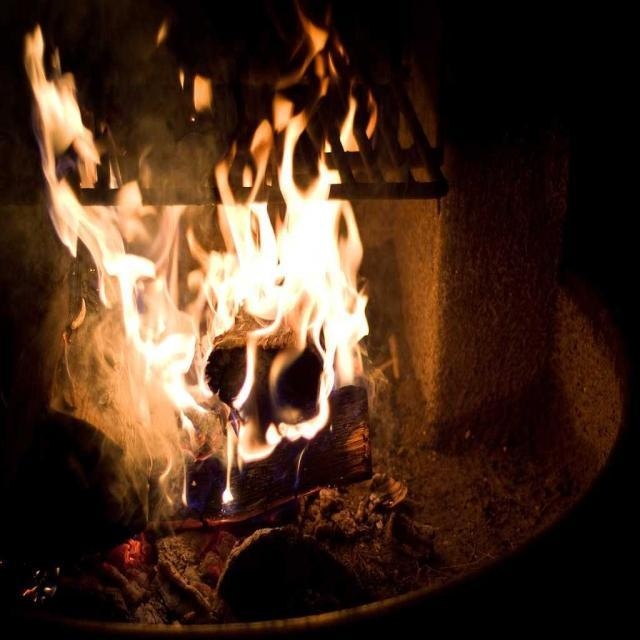Fire: (23, 17, 364, 435)
